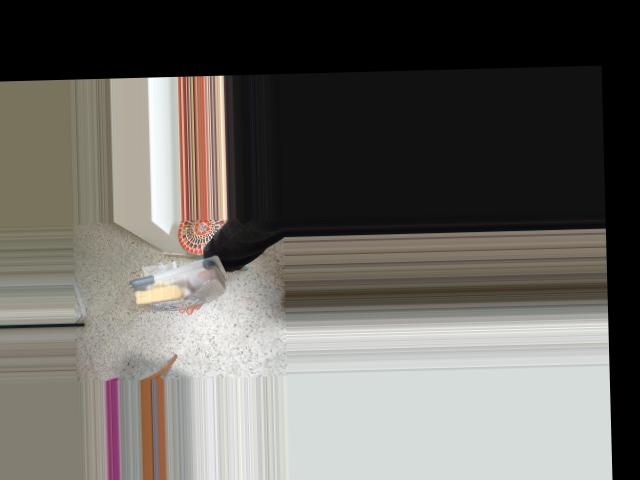cheese: (129, 252, 225, 313)
